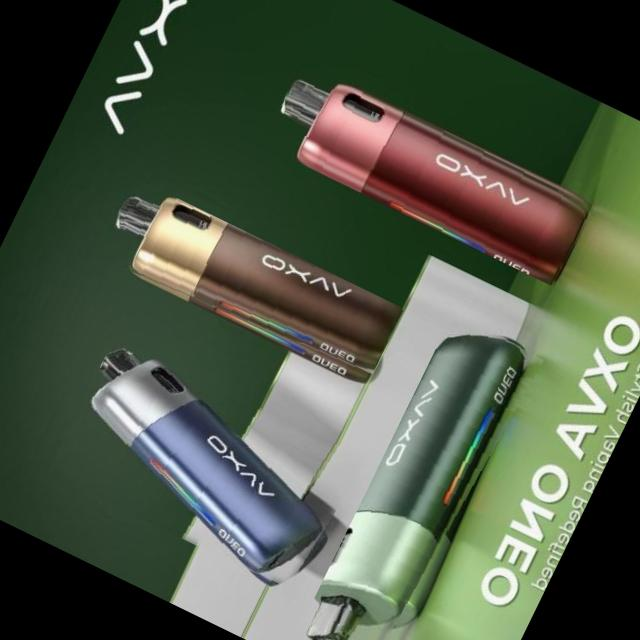Hazard: (45, 337, 368, 600), (297, 310, 546, 640), (261, 58, 596, 287), (94, 177, 404, 388)
